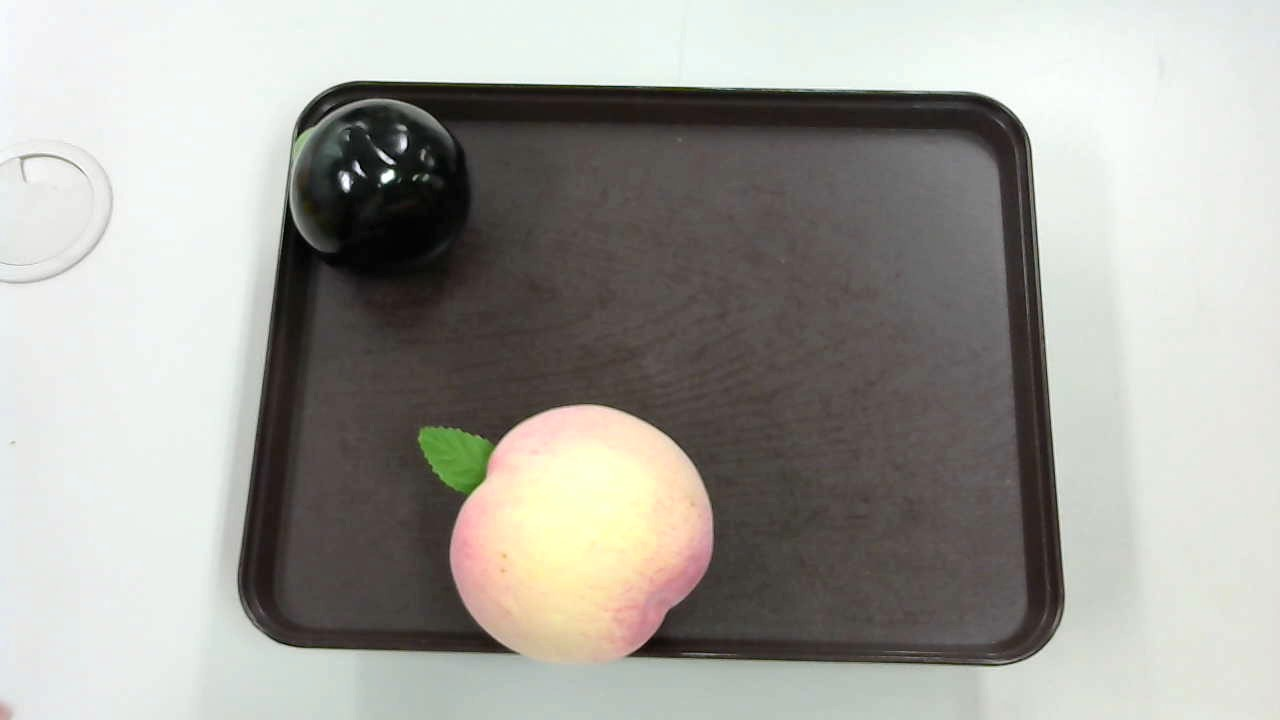mangosteen: (291, 100, 475, 277)
peach: (412, 398, 712, 663)
